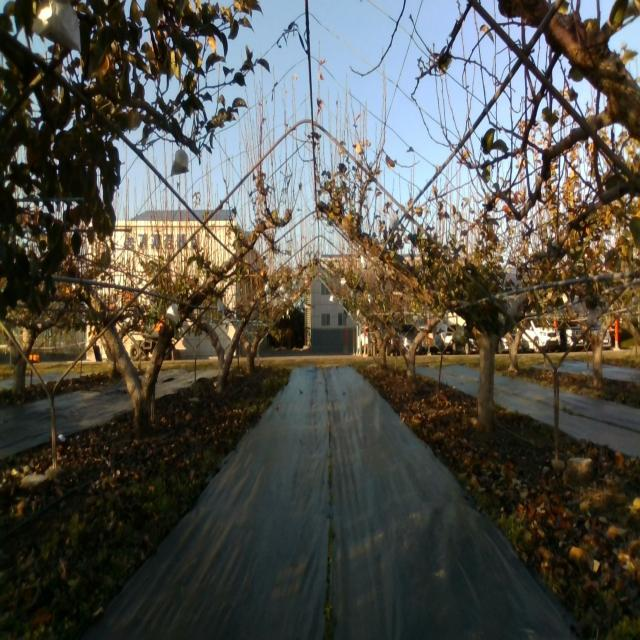pearbags: (30, 0, 83, 55), (170, 149, 190, 177), (165, 302, 179, 326), (389, 209, 400, 232)
